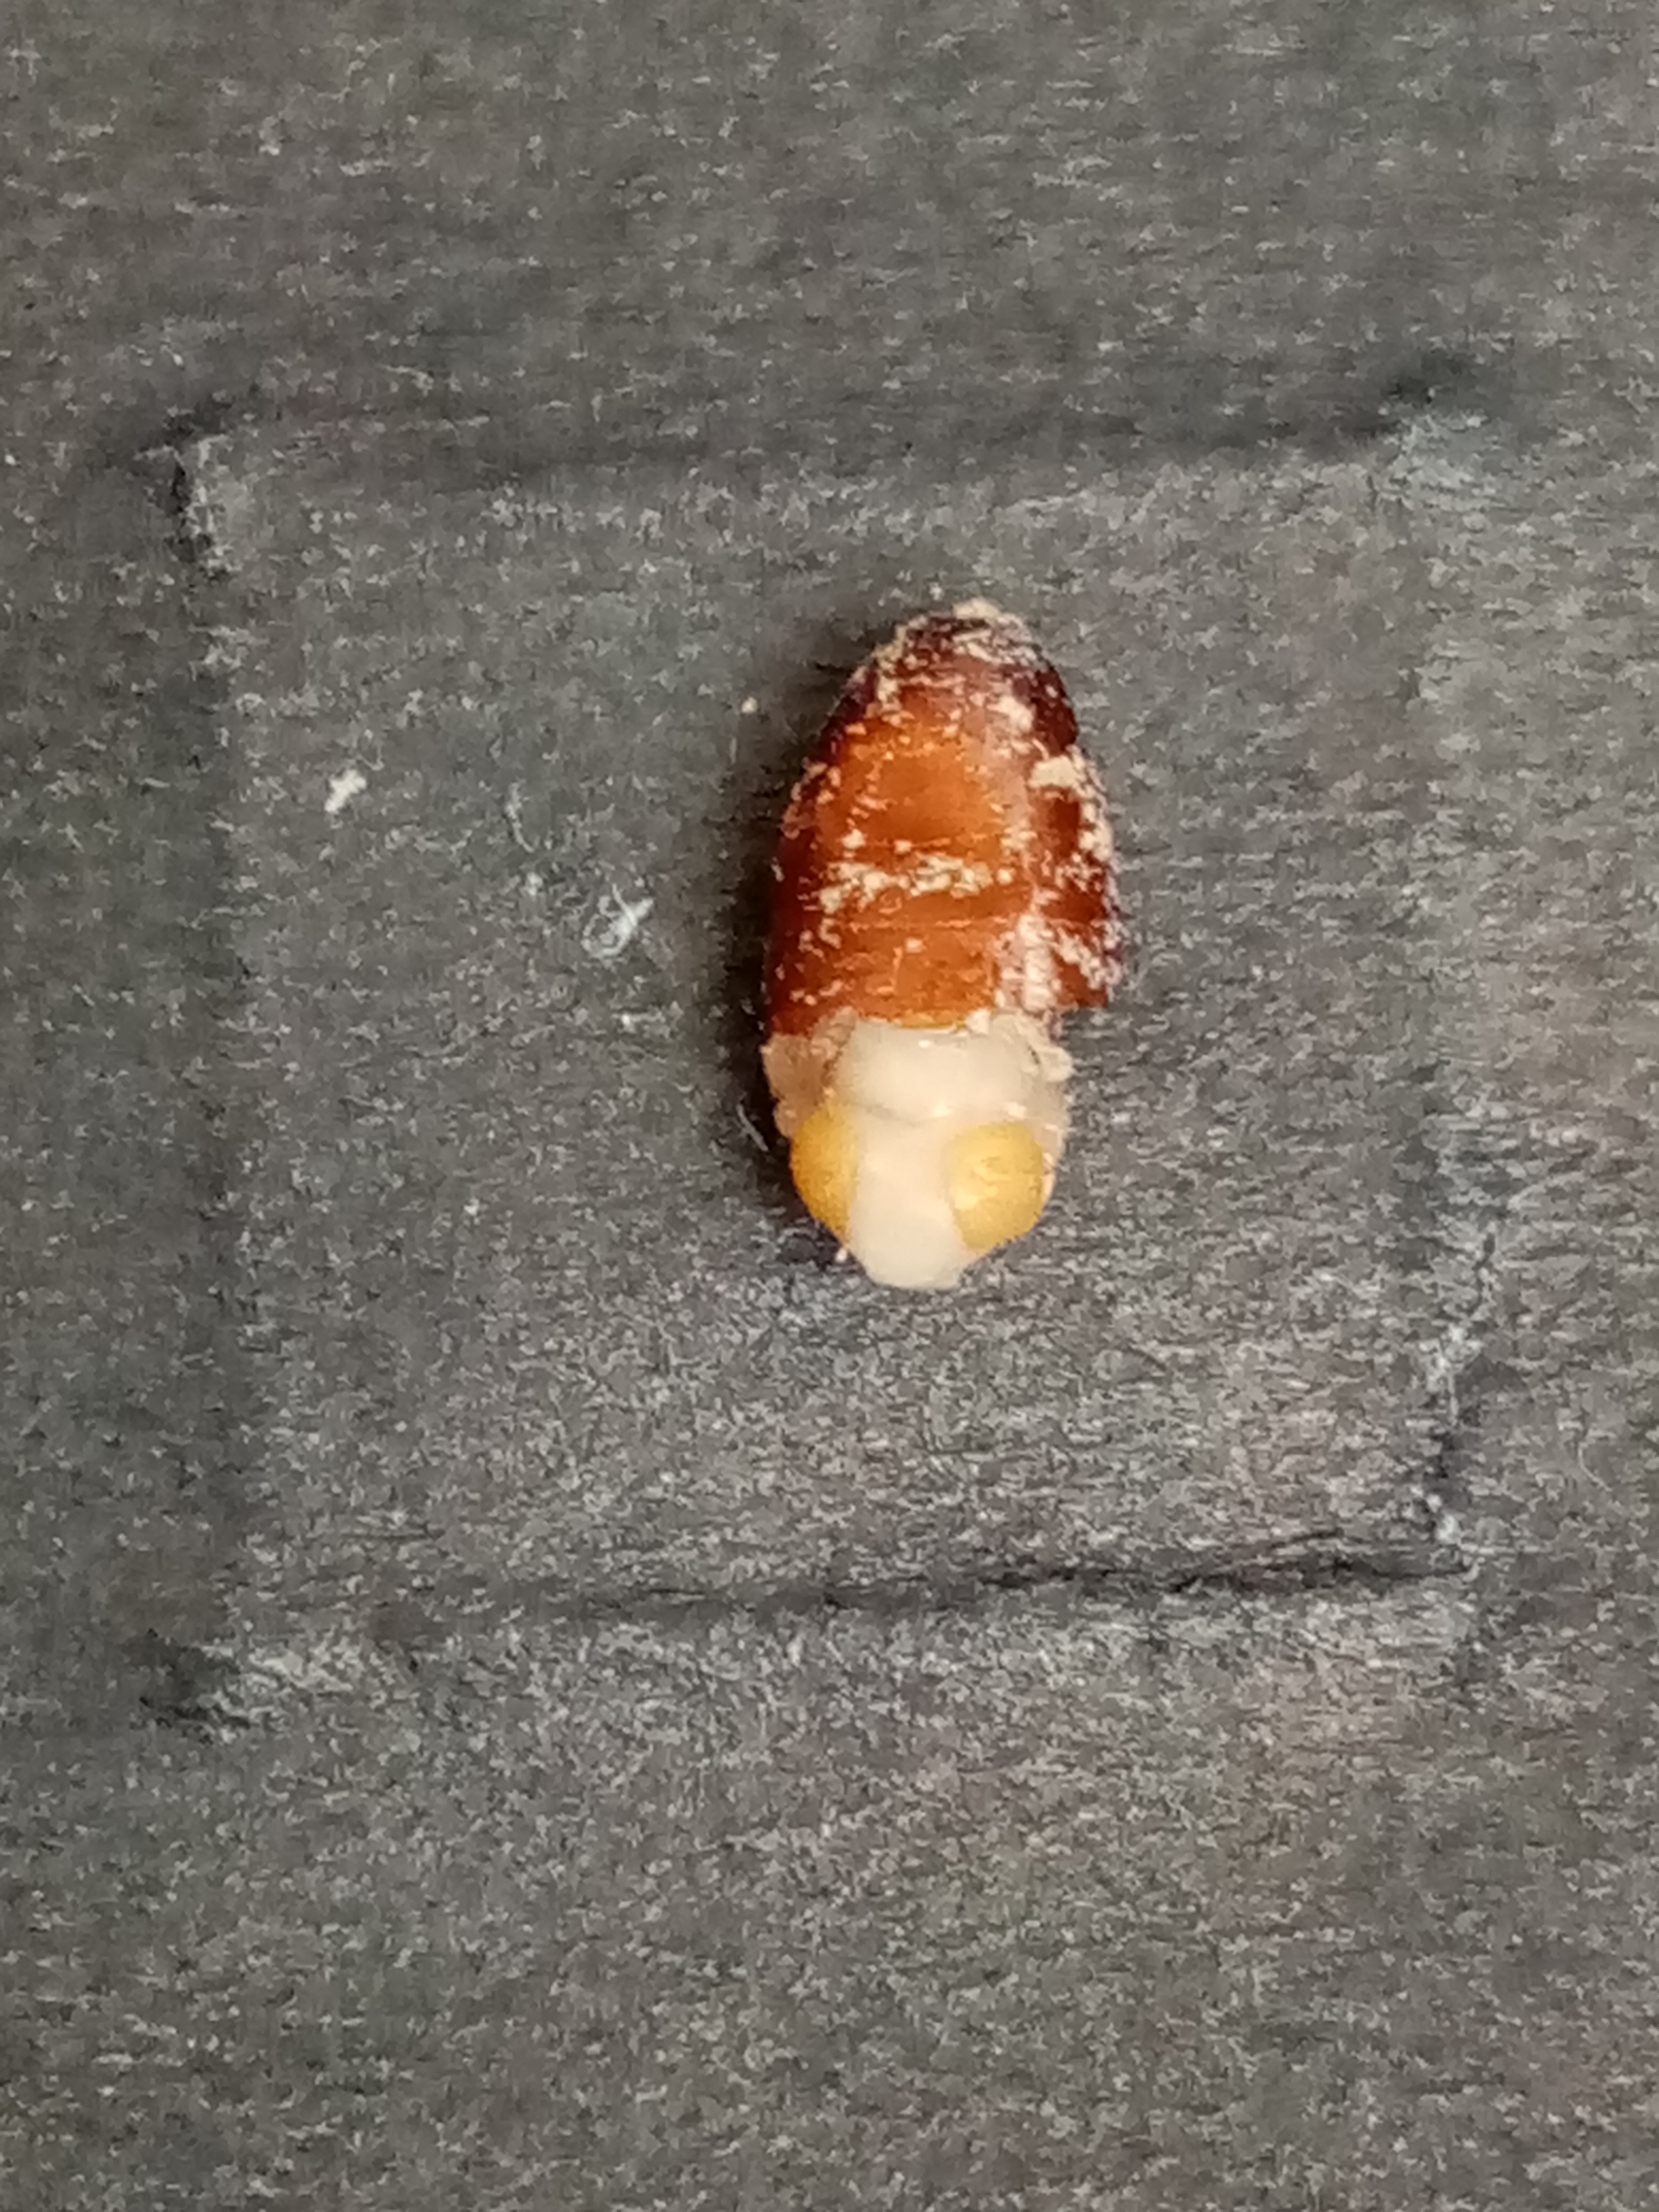pupa: (762, 1043, 1073, 1296)
